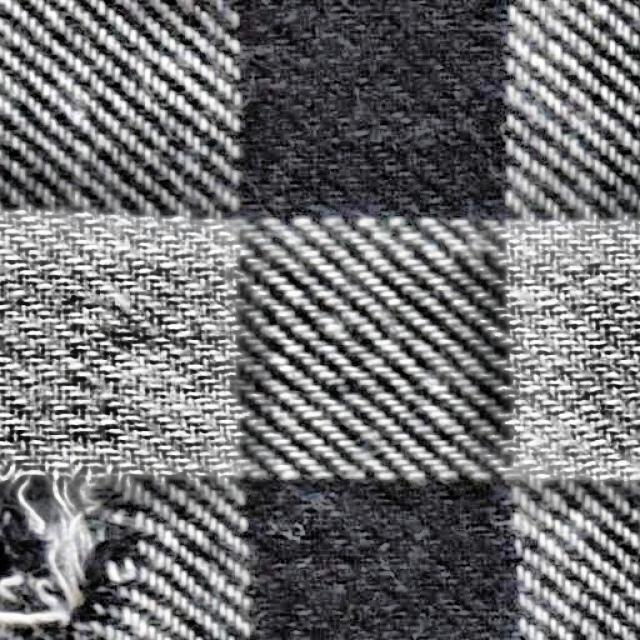Stitch: (1, 407, 193, 640)
